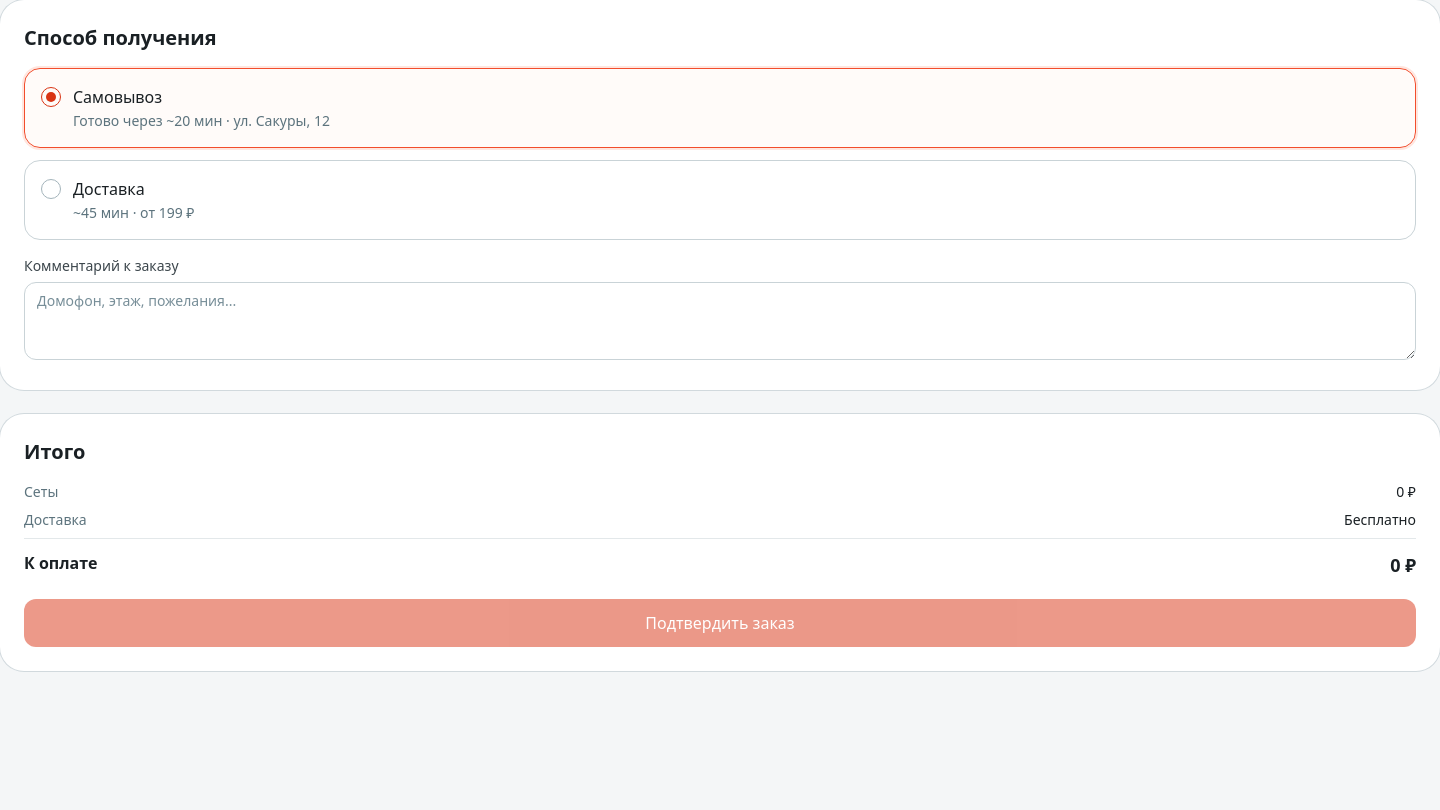
Test case: CheckoutForm › требует адрес при доставке
Click the radio button labelled "Доставка ~45 мин · от 199 ₽": coordinates (109, 189) [24, 160, 1416, 240]
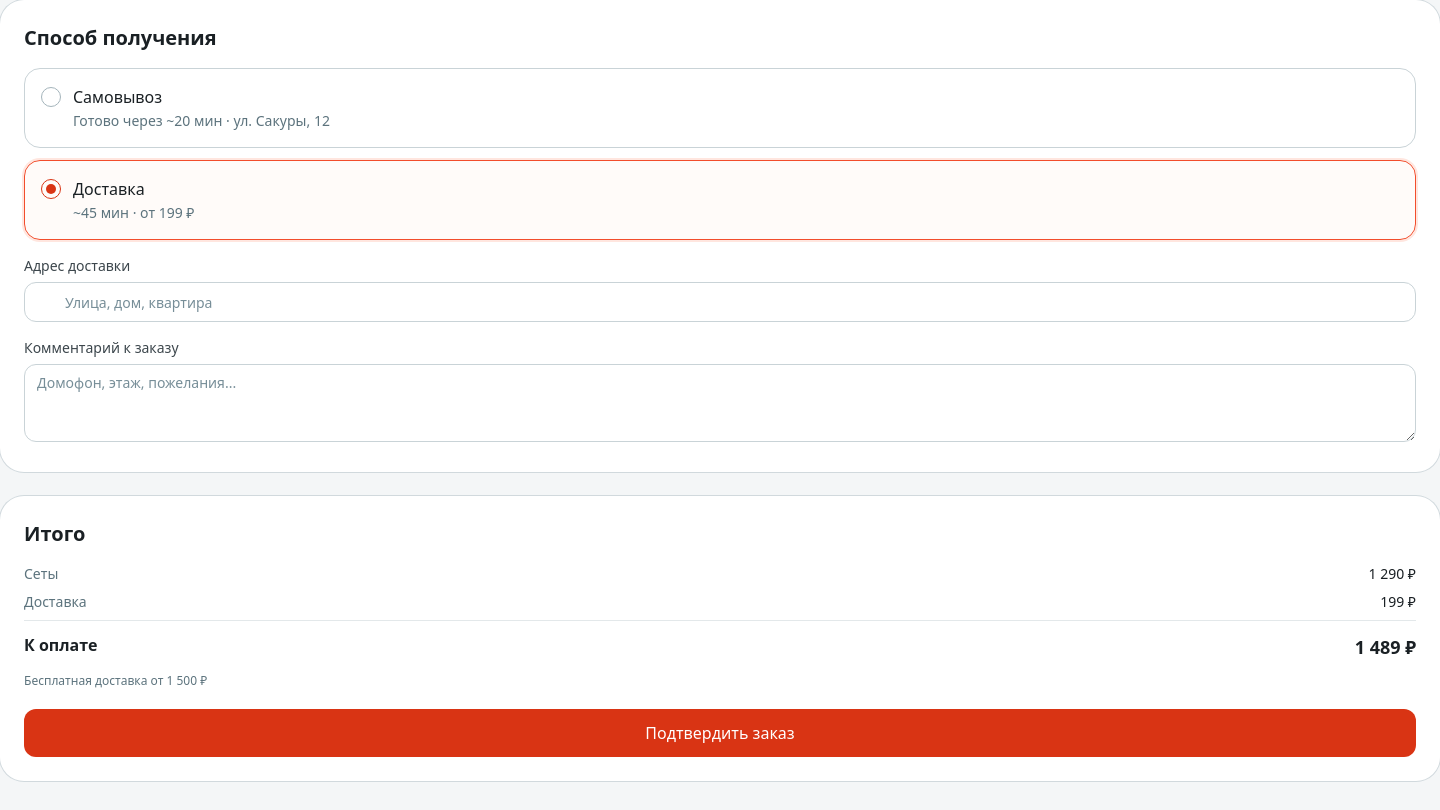
Submit the form
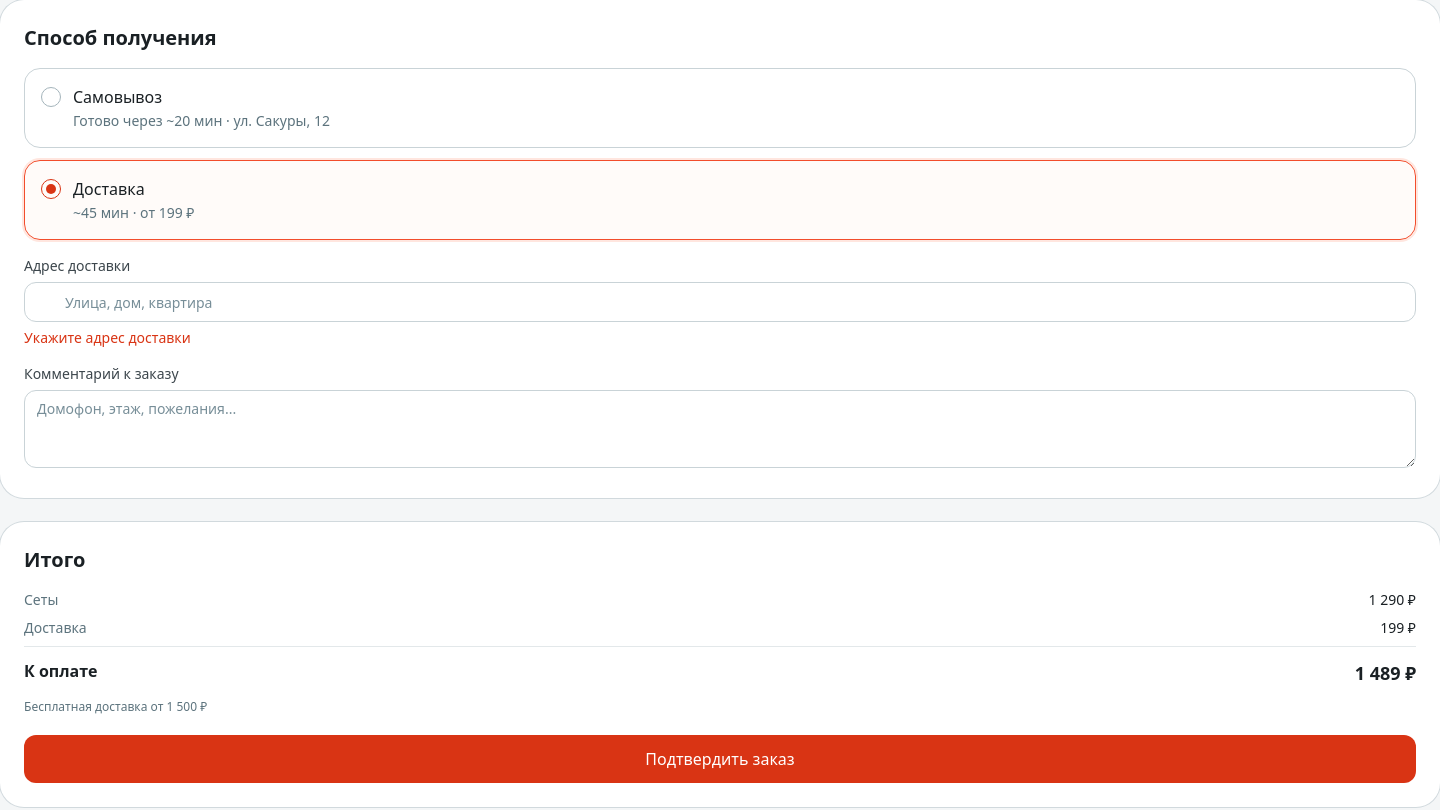
Expected: the form shows "Укажите адрес доставки", [24, 328, 191, 347]
